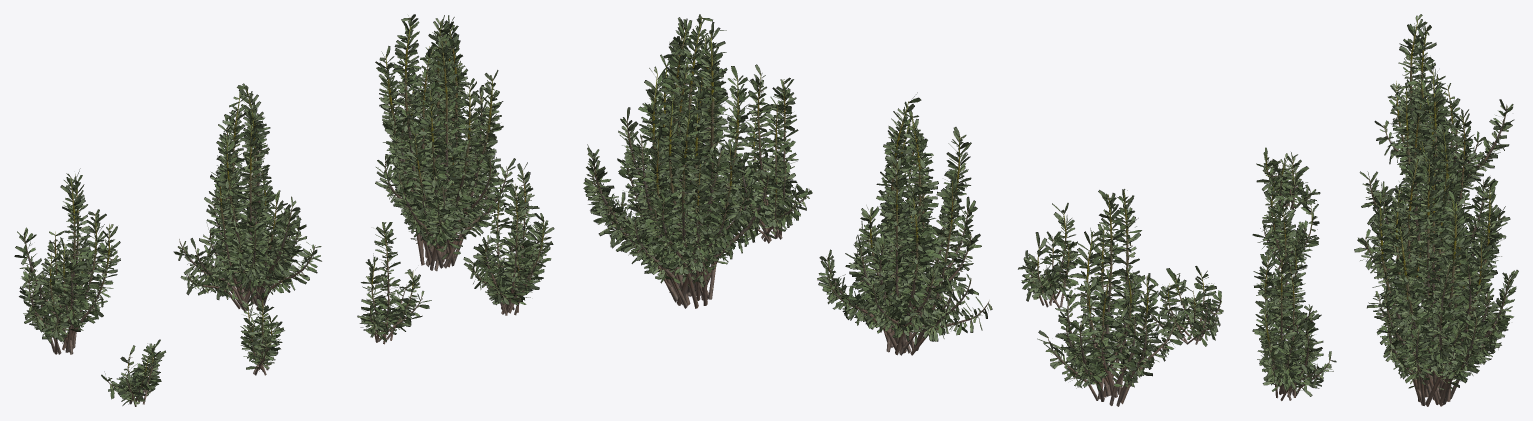
Rendered from othonna_cerarioides.glb.
3 views of the same model, side by side, from view 1: azimuth 30°, elevation 25°; view 2: azimuth 150°, elevation 25°; view 3: azimuth 270°, elevation 25° (orthographic). The views are drawn at different scales.
Parts seen in each view (by area): view 1: othonna_cerarioides_a, othonna_cerarioides_b, othonna_cerarioides_c, othonna_cerarioides_d, othonna_cerarioides_e, othonna_cerarioides_f, othonna_cerarioides_g; view 2: othonna_cerarioides_a, othonna_cerarioides_b, othonna_cerarioides_c, othonna_cerarioides_d, othonna_cerarioides_g, othonna_cerarioides_f, othonna_cerarioides_e; view 3: othonna_cerarioides_a, othonna_cerarioides_b, othonna_cerarioides_d, othonna_cerarioides_c, othonna_cerarioides_f, othonna_cerarioides_e, othonna_cerarioides_g.
Boxes of the visible parts, x1=… form: othonna_cerarioides_a: x1=375, y1=14, x2=515, y2=271; othonna_cerarioides_b: x1=173, y1=83, x2=321, y2=311; othonna_cerarioides_c: x1=14, y1=168, x2=120, y2=354; othonna_cerarioides_d: x1=463, y1=162, x2=554, y2=315; othonna_cerarioides_e: x1=357, y1=222, x2=431, y2=344; othonna_cerarioides_f: x1=240, y1=287, x2=284, y2=375; othonna_cerarioides_g: x1=101, y1=339, x2=165, y2=406; othonna_cerarioides_a: x1=583, y1=14, x2=780, y2=308; othonna_cerarioides_b: x1=817, y1=92, x2=992, y2=355; othonna_cerarioides_c: x1=1037, y1=189, x2=1183, y2=406; othonna_cerarioides_d: x1=719, y1=64, x2=812, y2=243; othonna_cerarioides_g: x1=1142, y1=266, x2=1223, y2=346; othonna_cerarioides_f: x1=1018, y1=203, x2=1080, y2=308; othonna_cerarioides_e: x1=854, y1=132, x2=954, y2=267; othonna_cerarioides_a: x1=1367, y1=123, x2=1518, y2=406; othonna_cerarioides_b: x1=1354, y1=61, x2=1510, y2=302; othonna_cerarioides_d: x1=1252, y1=250, x2=1336, y2=400; othonna_cerarioides_c: x1=1374, y1=14, x2=1514, y2=203; othonna_cerarioides_f: x1=1252, y1=176, x2=1319, y2=271; othonna_cerarioides_e: x1=1254, y1=204, x2=1321, y2=333; othonna_cerarioides_g: x1=1256, y1=147, x2=1320, y2=209.
Bounding box in the file's own units: 3.97 × 1.97 × 1.8.
2 materials, 2 textured.
